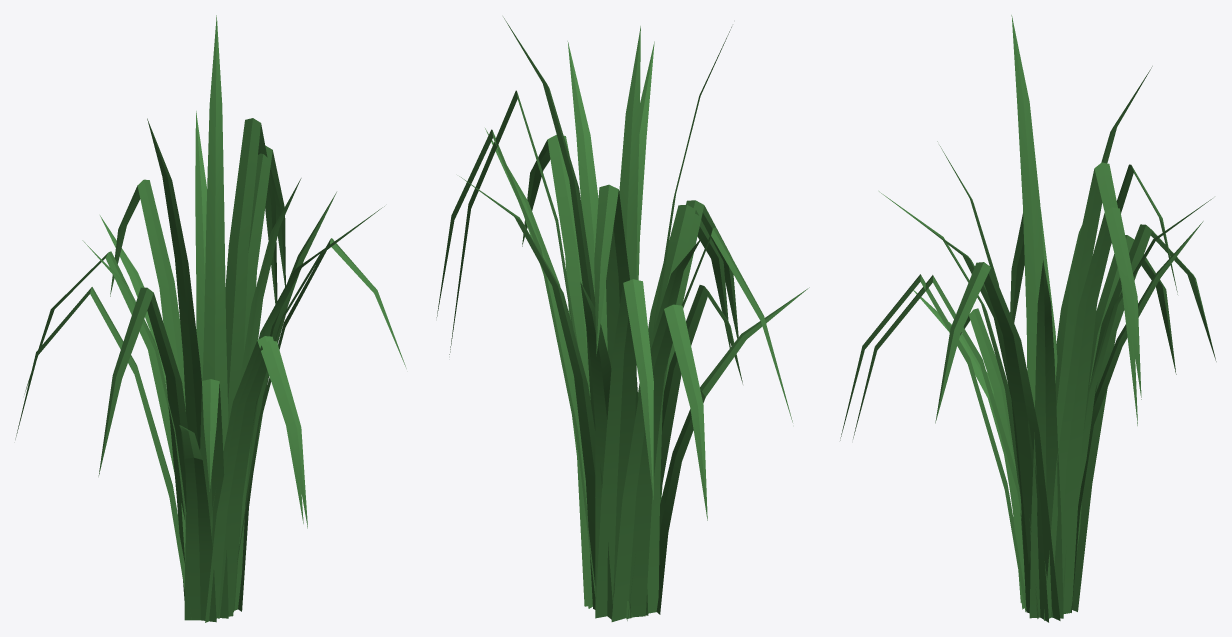
The model's file is Tall Grass.fbx.
The picture shows the model from 3 angles, left to right: view 1: azimuth 30°, elevation 25°; view 2: azimuth 150°, elevation 25°; view 3: azimuth 270°, elevation 25°; orthographic projection. The views are drawn at different scales.
Parts seen in each view (by area): view 1: Tall_Grass_Patch_1, Tall_Grass_Patch_3, Tall_Grass_Patch_2; view 2: Tall_Grass_Patch_3, Tall_Grass_Patch_1, Tall_Grass_Patch_2; view 3: Tall_Grass_Patch_3, Tall_Grass_Patch_2, Tall_Grass_Patch_1.
Part boxes in pixels (x1,y1,x2,y2): Tall_Grass_Patch_1: (82,15,406,622); Tall_Grass_Patch_3: (15,111,336,618); Tall_Grass_Patch_2: (98,145,384,612); Tall_Grass_Patch_3: (449,26,742,621); Tall_Grass_Patch_1: (503,17,809,619); Tall_Grass_Patch_2: (436,41,792,620); Tall_Grass_Patch_3: (937,15,1216,618); Tall_Grass_Patch_2: (853,207,1203,622); Tall_Grass_Patch_1: (840,66,1177,620).
Size of the model in its own units: 36.06 by 67.63 by 40.57.
